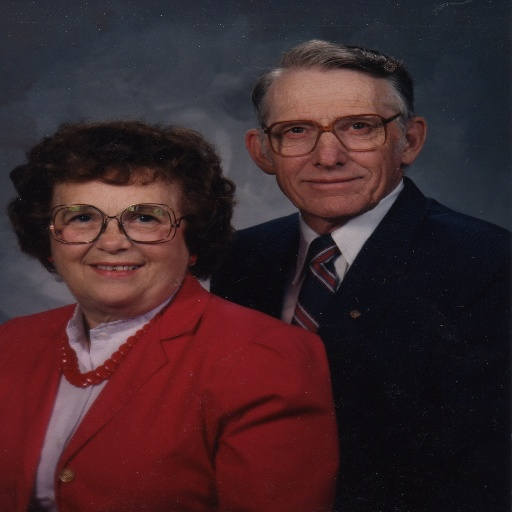hand: (207, 321, 338, 511)
